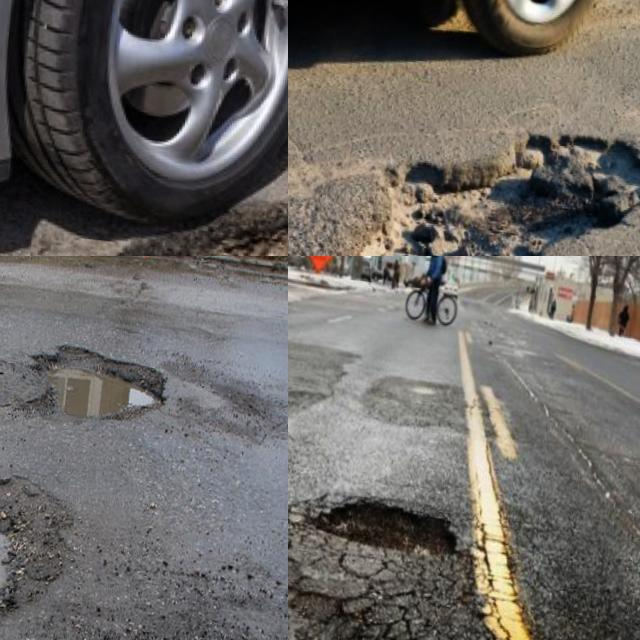Potholes: (288, 55, 640, 256), (288, 427, 493, 604), (0, 135, 288, 256), (288, 513, 513, 640), (0, 319, 178, 465), (0, 441, 94, 638)
